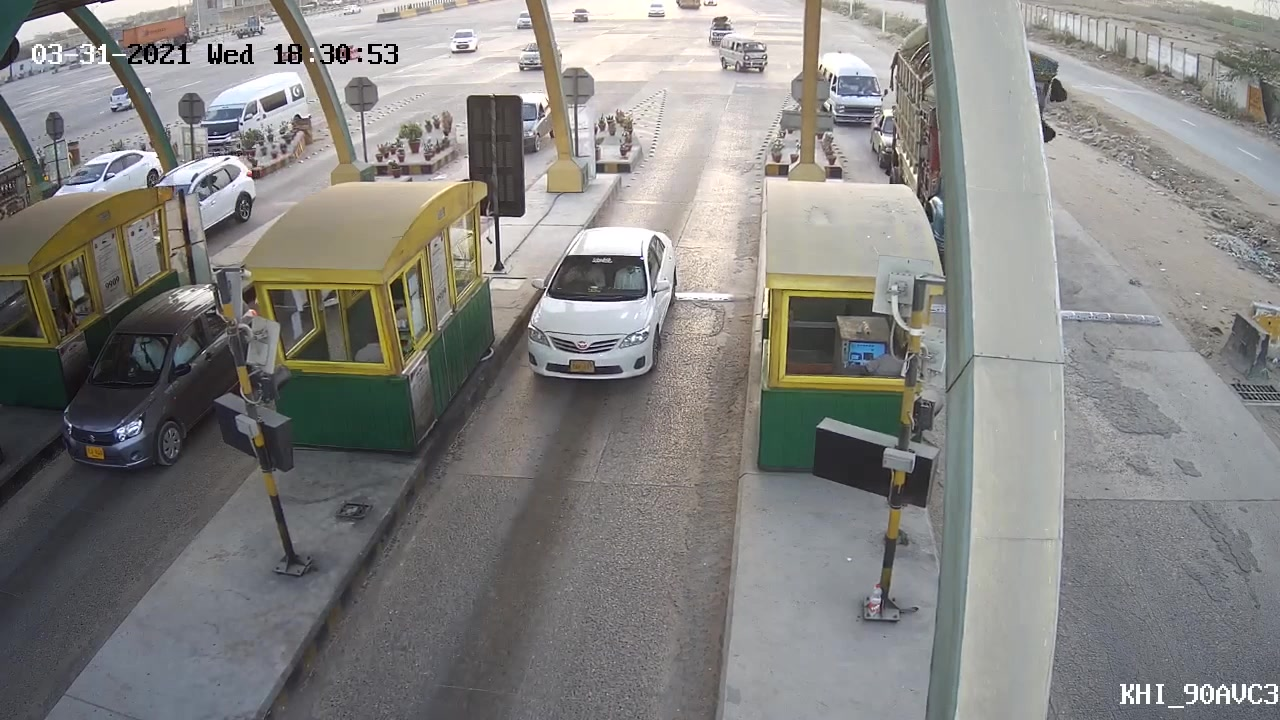F1: (519, 217, 684, 388)
